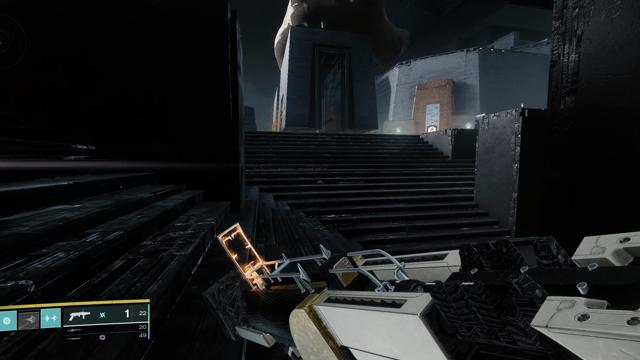worship: (428, 126, 436, 132)
